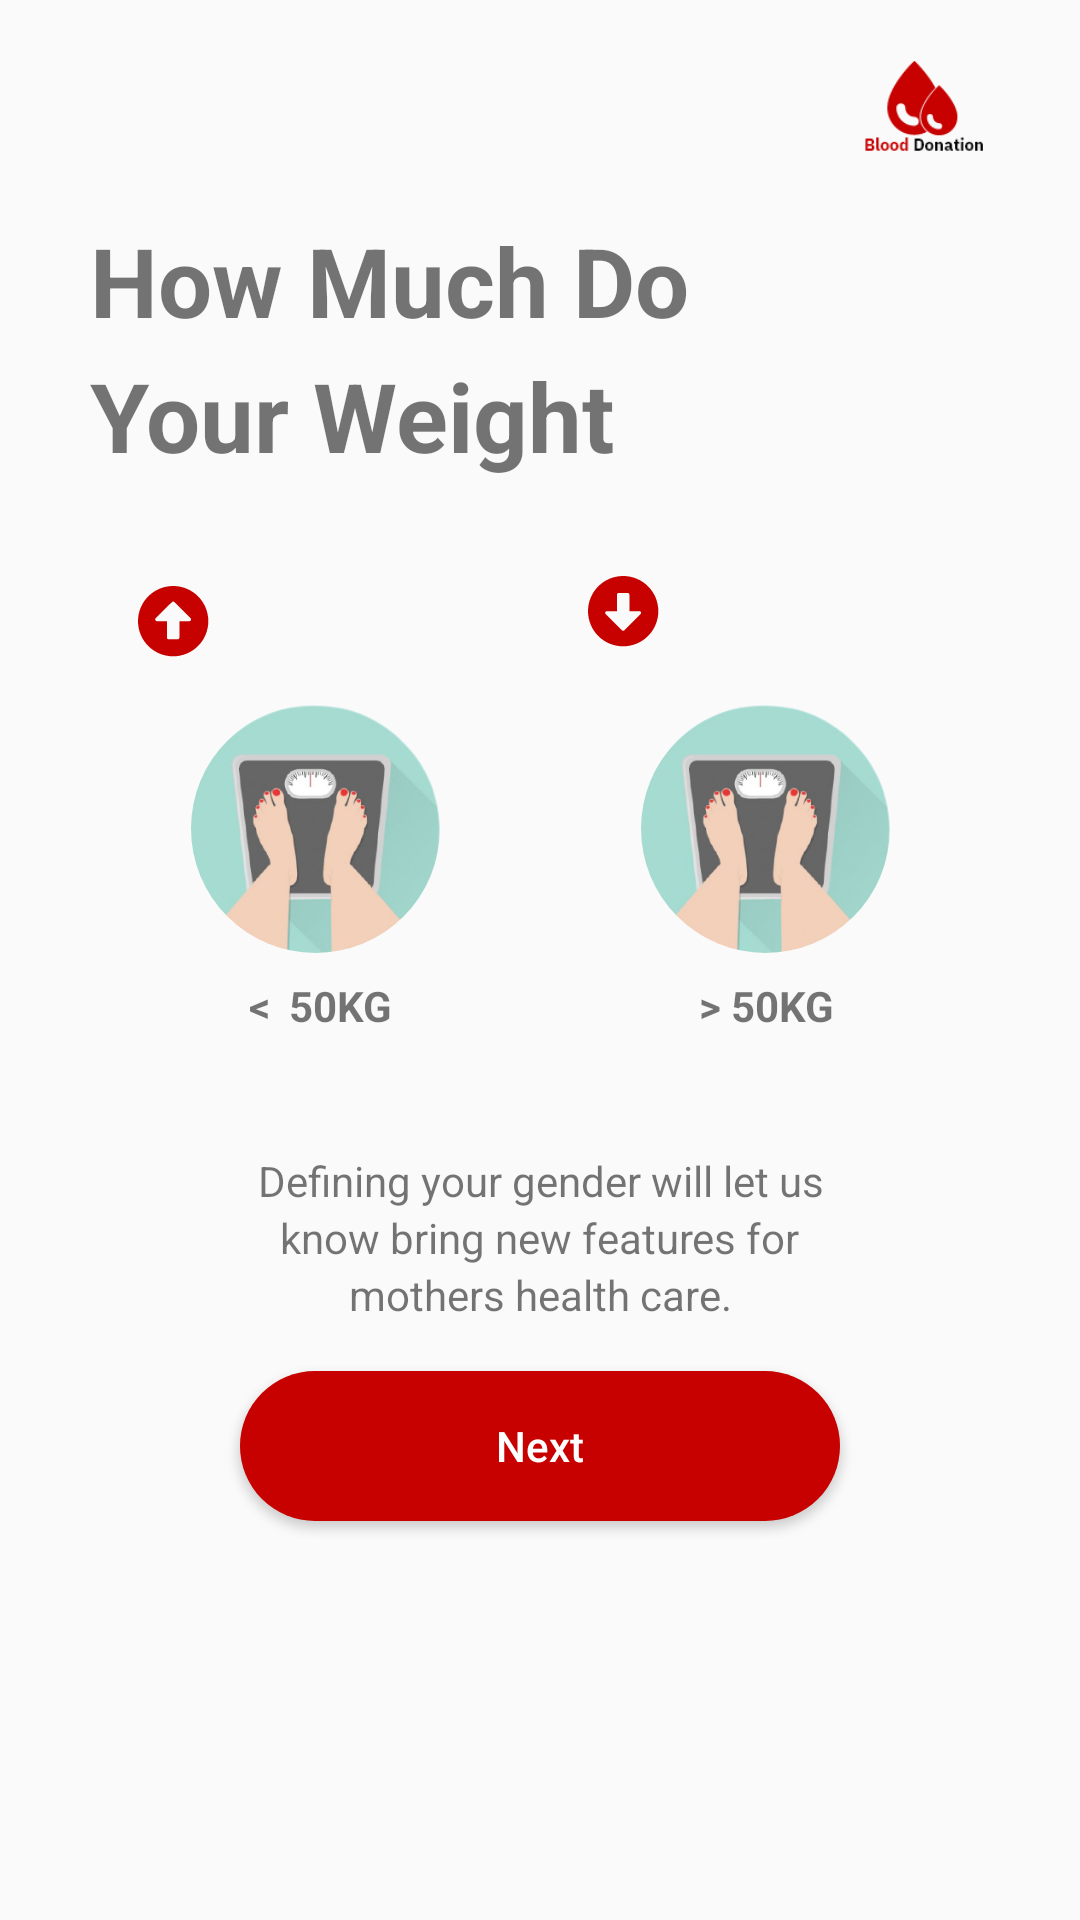

Icon click points for this 1080x1920 phone screenshot, format point (x, y):
down arrow: point (623, 611)
up arrow: point (173, 621)
